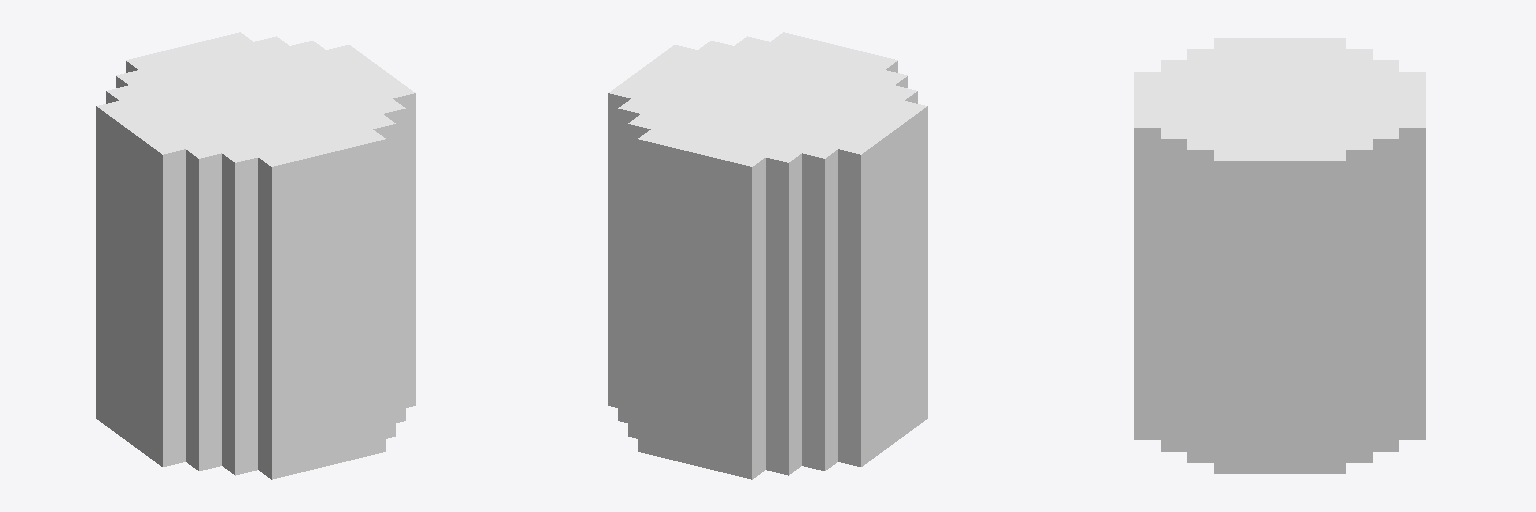
The model's file is turret.vox-1.obj.
The picture shows the model from 3 angles: view 1: azimuth 30°, elevation 25°; view 2: azimuth 150°, elevation 25°; view 3: azimuth 270°, elevation 25°; orthographic projection.
Visible parts, largest first — view 1: object 1; view 2: object 1; view 3: object 1.
Part boxes in pixels (x1,y1,x2,y2): object 1: (96,32,415,479); object 1: (608,32,927,479); object 1: (1134,38,1425,473).
Size of the model in its own units: 1.1 by 1.3 by 1.1.